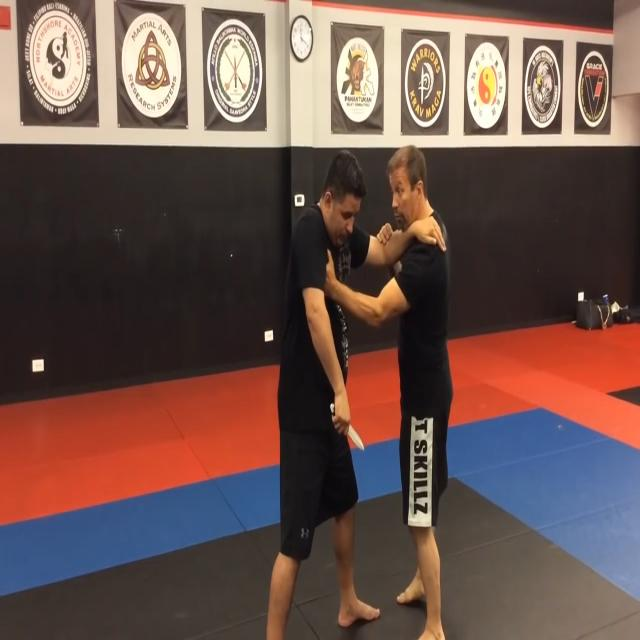knife: (329, 405, 367, 454)
